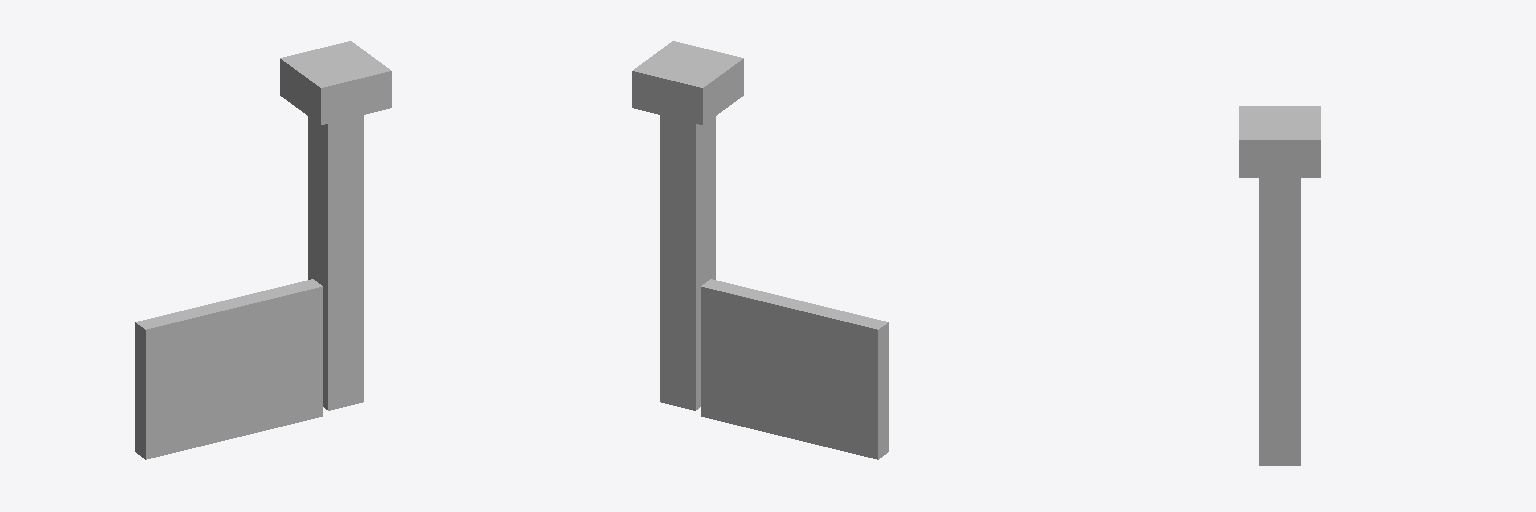
The model's file is caravan_target_disabled.obj.
3 renders of one model, left to right at view 1: azimuth 30°, elevation 25°; view 2: azimuth 150°, elevation 25°; view 3: azimuth 270°, elevation 25°, orthographic.
Parts seen in each view (by area): view 1: flag, cube, top; view 2: flag, cube, top; view 3: cube, top.
Boxes of the visible parts, x1,y1,x2,y2 form: flag: [135, 279, 322, 459]; cube: [308, 115, 363, 410]; top: [280, 41, 391, 124]; flag: [701, 279, 888, 459]; cube: [660, 115, 715, 410]; top: [632, 41, 743, 124]; cube: [1259, 178, 1300, 465]; top: [1239, 106, 1320, 177].
Size of the model in its own units: 0.8125 by 1.16 by 0.25.